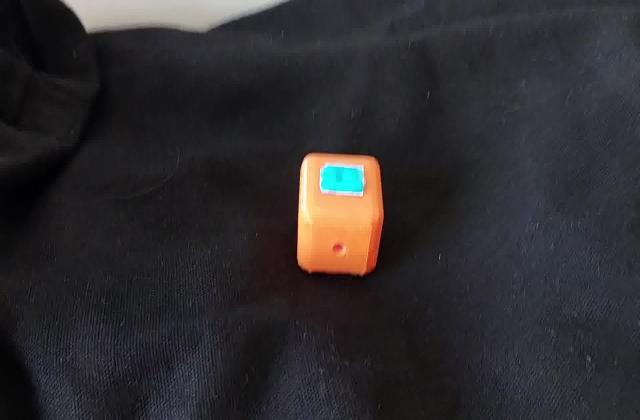blue: (327, 170, 359, 189)
cube: (294, 146, 388, 280)
